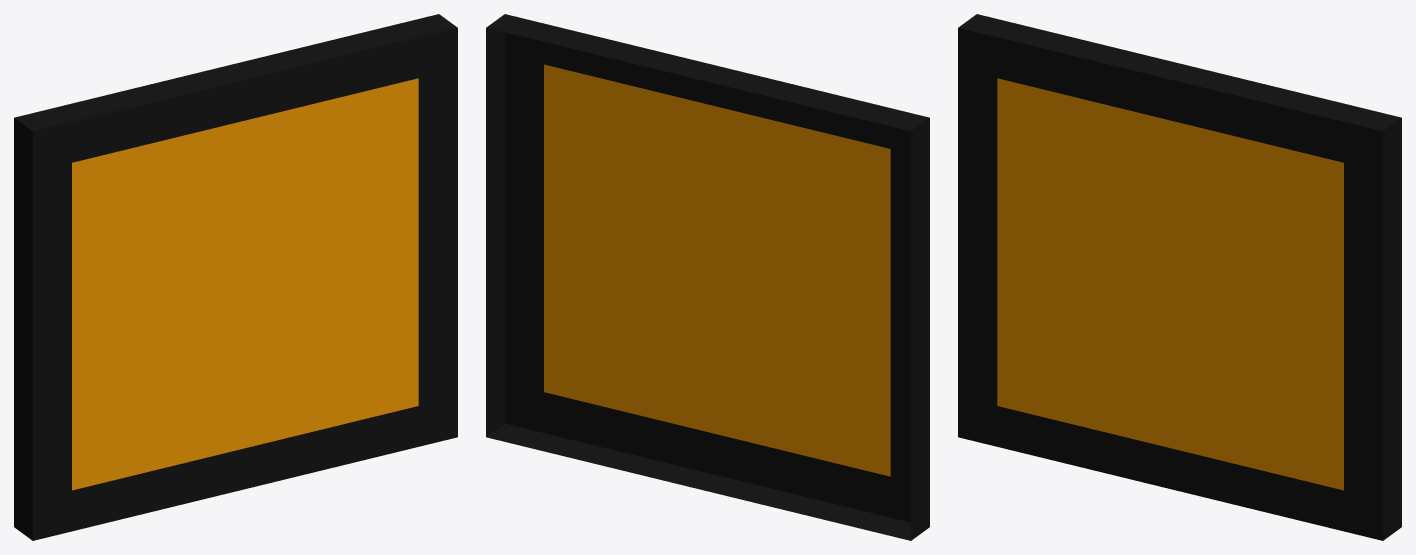
The model's file is Paint_10.fbx.
3 renders of one model, left to right at view 1: azimuth 30°, elevation 25°; view 2: azimuth 150°, elevation 25°; view 3: azimuth 330°, elevation 25°, orthographic.
Visible parts, largest first — view 1: polySurface924; view 2: polySurface924; view 3: polySurface924.
Part boxes in pixels (bbox=[...]): polySurface924: bbox=[14, 14, 457, 540]; polySurface924: bbox=[486, 14, 929, 540]; polySurface924: bbox=[958, 14, 1401, 540].
Bounding box in the file's own units: 1.04 × 0.9608 × 0.08.
1 material, 1 textured.
